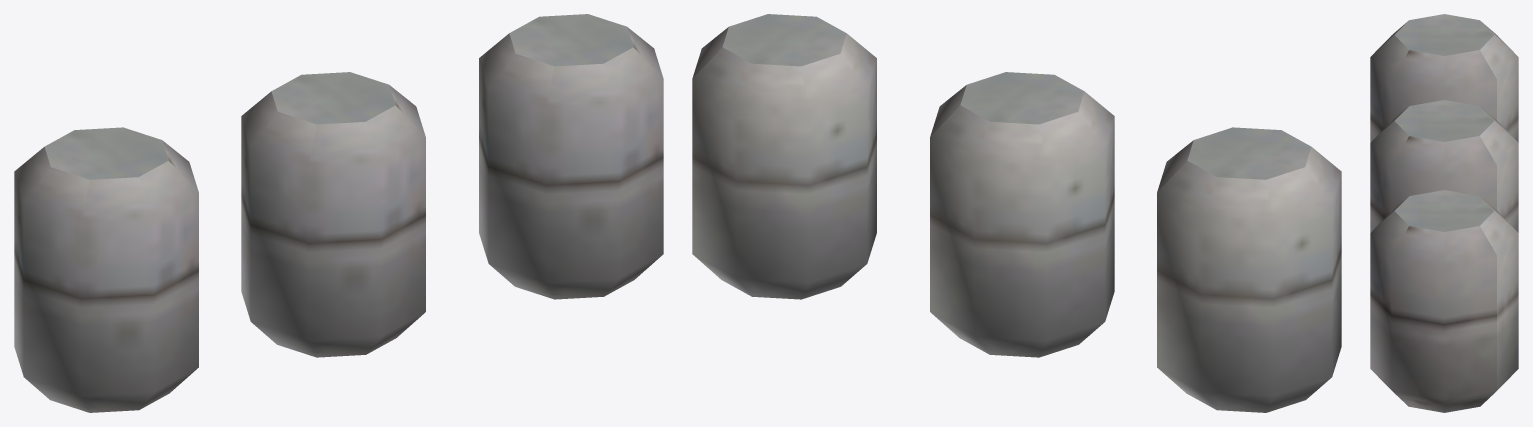
File: outside_waitroom_props_barrels.DAE
The picture shows the model from 3 angles, left to right: view 1: azimuth 30°, elevation 25°; view 2: azimuth 150°, elevation 25°; view 3: azimuth 270°, elevation 25°; orthographic projection. The views are drawn at different scales.
Parts seen in each view (by area): view 1: Object077; view 2: Object077; view 3: Object077.
Boxes of the visible parts, x1,y1,x2,y2 form: Object077: [14, 14, 663, 412]; Object077: [692, 14, 1341, 412]; Object077: [1370, 14, 1518, 412].
Size of the model in its own units: 6.28 by 2.21 by 1.65.
